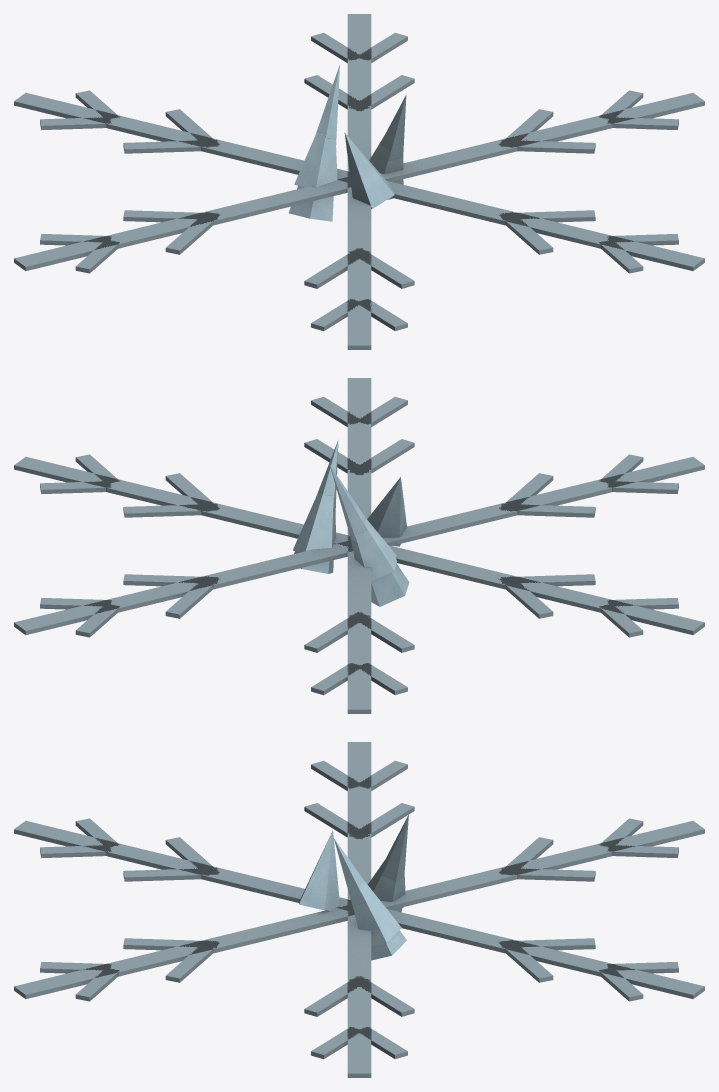
File: trace_santalla.glb
The picture shows the model from 3 angles, top to bottom: view 1: azimuth 30°, elevation 25°; view 2: azimuth 150°, elevation 25°; view 3: azimuth 270°, elevation 25°; orthographic projection.
Visible parts, largest first — view 1: trace_santalla; view 2: trace_santalla; view 3: trace_santalla.
Part boxes in pixels (<box>): trace_santalla: <box>14,14,704,349</box>; trace_santalla: <box>14,378,704,713</box>; trace_santalla: <box>14,742,704,1077</box>.
Size of the model in its own units: 1 by 0.1952 by 0.881.
2 materials, 2 textured.
